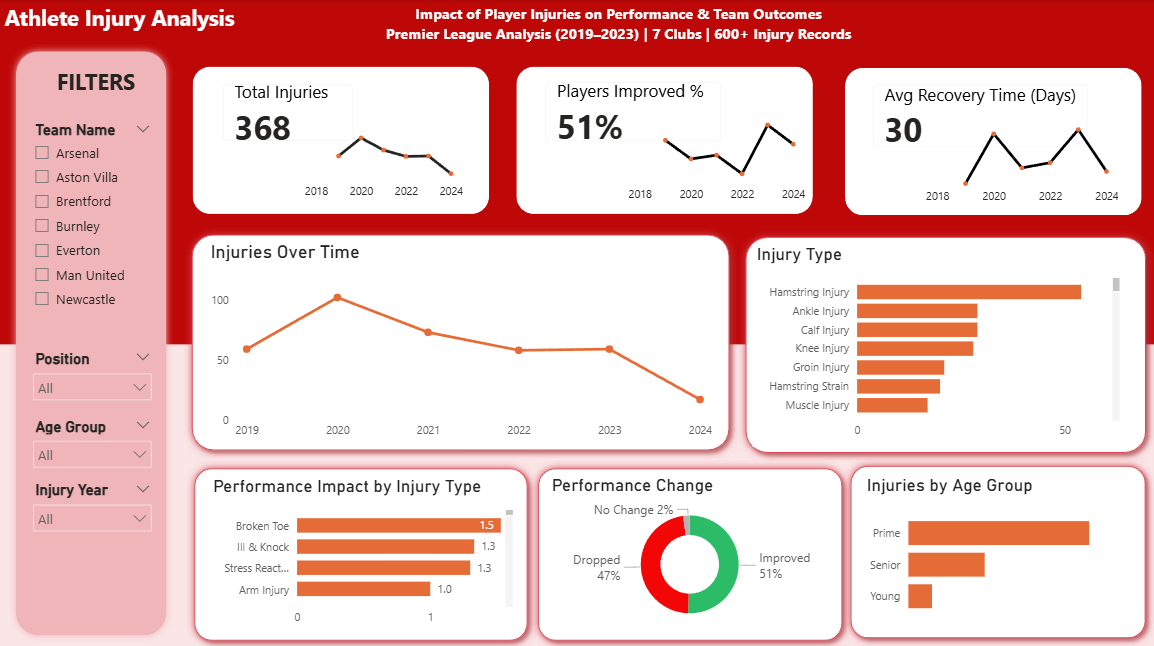

This screenshot's page, from the dashboard's own definition file:
{"tool":"powerbi","page":{"name":"Page 1","canvas":[1280,720],"ordinal":0},"visuals":[{"type":"textbox","box":[0,0,1280.3,382.5],"z":0},{"type":"textbox","box":[407.3,0,556.2,74.5],"z":1000},{"type":"shape","box":[572.3,74.5,328.5,163.5],"z":2000},{"type":"cardVisual","fields":{"Data":["final_injury_analysis.Improved %"]},"box":[586.9,74.5,229.2,100.7],"z":3000},{"type":"lineChart","fields":{"Category":["final_injury_analysis.injury_year"],"Y":["final_injury_analysis.Improved %"]},"box":[690.5,122.6,205.8,110.9],"z":4000},{"type":"shape","box":[202.9,252.6,613.1,256.9],"z":5000},{"type":"lineChart","title":"Injuries Over Time","fields":{"Category":["final_injury_analysis.injury_year"],"Y":["Sum(final_injury_analysis.injury_count)"]},"box":[227.7,267.2,565,229.2],"z":6000},{"type":"shape","box":[816.1,254,461.3,256.9],"z":7000},{"type":"clusteredBarChart","title":"Injury Type","fields":{"Category":["final_injury_analysis.Injury"],"Y":["Sum(final_injury_analysis.injury_count)"]},"box":[833.6,271.5,411.7,224.8],"z":8000},{"type":"shape","box":[586.9,511,354.7,208.8],"z":9000},{"type":"donutChart","title":"Performance Change ","fields":{"Category":["final_injury_analysis.performance_change"],"Y":["CountNonNull(final_injury_analysis.Name)"]},"box":[605.8,527,315.3,173.7],"z":10000},{"type":"shape","box":[206.4,511.2,386.9,208.8],"z":11000},{"type":"clusteredBarChart","title":"Performance Impact by Injury Type","fields":{"Category":["final_injury_analysis.Injury"],"Y":["final_injury_analysis.Avg Impact"]},"box":[231.2,528.7,341.6,173.7],"z":12000},{"type":"shape","box":[10.2,49.6,182.5,662.8],"z":13000},{"type":"slicer","fields":{"Values":["final_injury_analysis.Team Name"]},"box":[26.3,129.9,151.8,232.1],"z":14000},{"type":"slicer","fields":{"Values":["final_injury_analysis.Position"]},"box":[26.3,383.9,151.8,74.5],"z":15000},{"type":"slicer","fields":{"Values":["final_injury_analysis.age_group"]},"box":[26.3,458.4,151.8,74.5],"z":16000},{"type":"slicer","fields":{"Values":["final_injury_analysis.injury_year"]},"box":[26.3,528.5,151.8,74.5],"z":17000},{"type":"shape","box":[935.8,75.9,328.5,163.5],"z":18000},{"type":"cardVisual","fields":{"Data":["Avg(final_injury_analysis.recovery_days)"]},"box":[948.9,77.4,273,103.7],"z":19000},{"type":"lineChart","fields":{"Category":["final_injury_analysis.injury_year"],"Y":["Avg(final_injury_analysis.recovery_days)"]},"box":[1020.4,122.6,223.4,113.9],"z":20000},{"type":"shape","box":[212.8,74.2,328.5,163.5],"z":21000},{"type":"cardVisual","fields":{"Data":["Sum(final_injury_analysis.injury_count)"]},"box":[229.2,77.4,178.1,97.8],"z":22000},{"type":"lineChart","fields":{"Category":["final_injury_analysis.injury_year"],"Y":["Sum(final_injury_analysis.injury_count)"]},"box":[332.6,118,185.4,113.9],"z":23000},{"type":"textbox","box":[30.7,70.1,151.8,55.5],"z":24000},{"type":"shape","box":[933.4,508.6,344.5,208.8],"z":25000},{"type":"clusteredBarChart","title":"Injuries by Age Group","fields":{"Category":["final_injury_analysis.age_group"],"Y":["Sum(final_injury_analysis.injury_count)"]},"box":[954.7,527,309.5,167.9],"z":26000}]}

Visuals, with their boxes in screenshot pixels (x1, y1, x2, y2), scaled from the page's 1280x720 canvas onto the 1154x646 screenshot:
textbox: <bbox>0, 0, 1153, 343</bbox>
textbox: <bbox>367, 0, 869, 67</bbox>
shape: <bbox>516, 67, 812, 214</bbox>
cardVisual - final_injury_analysis.Improved %: <bbox>529, 67, 736, 157</bbox>
lineChart - final_injury_analysis.injury_year x final_injury_analysis.Improved %: <bbox>623, 110, 808, 210</bbox>
shape: <bbox>183, 227, 736, 457</bbox>
"Injuries Over Time" lineChart: <bbox>205, 240, 715, 445</bbox>
shape: <bbox>736, 228, 1152, 458</bbox>
"Injury Type" clusteredBarChart: <bbox>752, 244, 1123, 445</bbox>
shape: <bbox>529, 458, 849, 645</bbox>
"Performance Change " donutChart: <bbox>546, 473, 830, 629</bbox>
shape: <bbox>186, 459, 535, 645</bbox>
"Performance Impact by Injury Type" clusteredBarChart: <bbox>208, 474, 516, 630</bbox>
shape: <bbox>9, 45, 174, 639</bbox>
slicer - final_injury_analysis.Team Name: <bbox>24, 117, 161, 325</bbox>
slicer - final_injury_analysis.Position: <bbox>24, 344, 161, 411</bbox>
slicer - final_injury_analysis.age_group: <bbox>24, 411, 161, 478</bbox>
slicer - final_injury_analysis.injury_year: <bbox>24, 474, 161, 541</bbox>
shape: <bbox>844, 68, 1140, 215</bbox>
cardVisual - Avg(final_injury_analysis.recovery_days): <bbox>855, 69, 1102, 162</bbox>
lineChart - final_injury_analysis.injury_year x Avg(final_injury_analysis.recovery_days): <bbox>920, 110, 1121, 212</bbox>
shape: <bbox>192, 67, 488, 213</bbox>
cardVisual - Sum(final_injury_analysis.injury_count): <bbox>207, 69, 367, 157</bbox>
lineChart - final_injury_analysis.injury_year x Sum(final_injury_analysis.injury_count): <bbox>300, 106, 467, 208</bbox>
textbox: <bbox>28, 63, 165, 113</bbox>
shape: <bbox>842, 456, 1152, 644</bbox>
"Injuries by Age Group" clusteredBarChart: <bbox>861, 473, 1140, 623</bbox>
